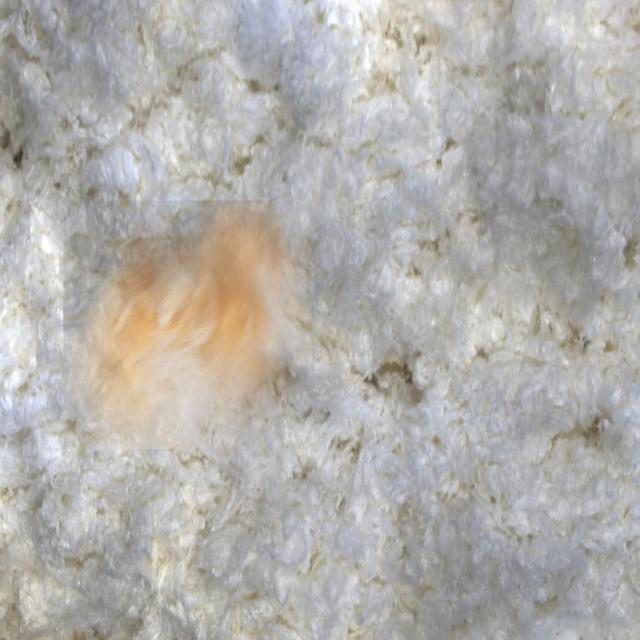dust: (64, 201, 307, 449)
